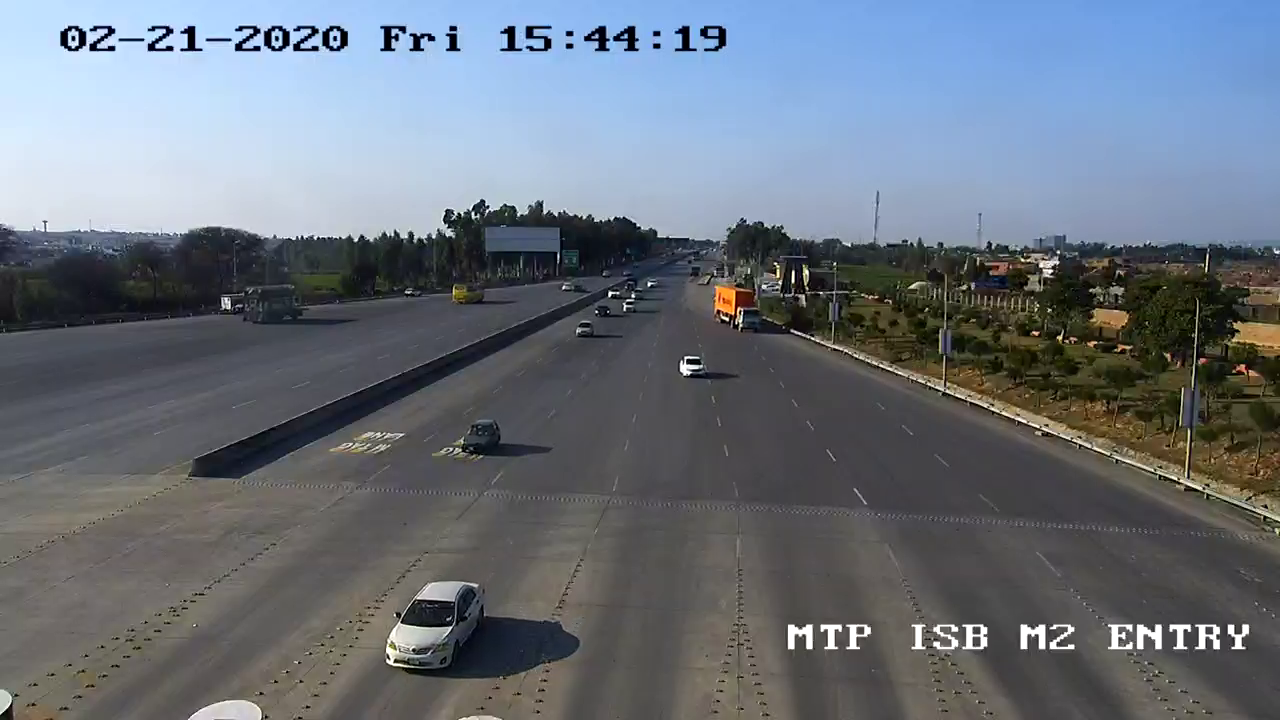f1: (375, 574, 495, 678), (457, 415, 506, 458)
